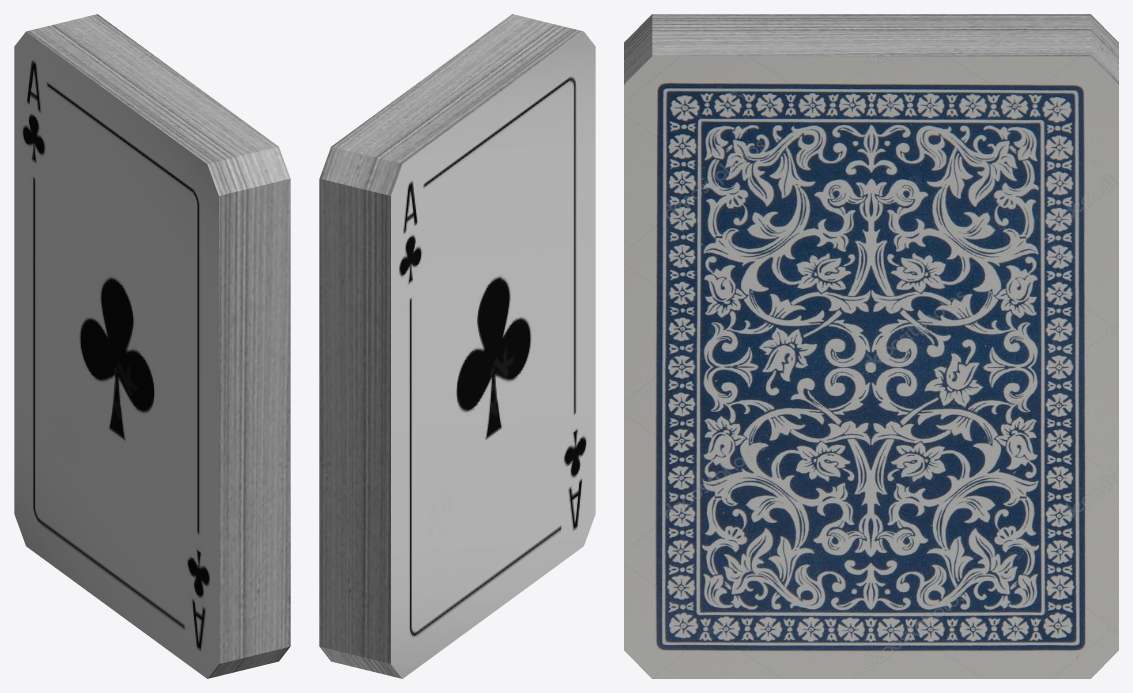
Rendered from Card_pack_whole.fbx.
The picture shows the model from 3 angles, left to right: view 1: azimuth 30°, elevation 25°; view 2: azimuth 150°, elevation 25°; view 3: azimuth 270°, elevation 25°; orthographic projection. The views are drawn at different scales.
Parts seen in each view (by area): view 1: Card_whole; view 2: Card_whole; view 3: Card_whole.
Part boxes in pixels (left/top/right/bottom): Card_whole: left=14, top=14, right=290, bottom=678; Card_whole: left=319, top=14, right=595, bottom=678; Card_whole: left=624, top=14, right=1118, bottom=678.
Size of the model in its own units: 120 by 825 by 594.
